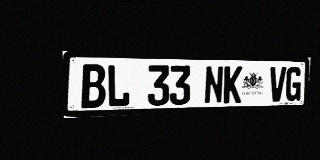3: (148, 65, 170, 106), (170, 65, 191, 105)
B: (81, 64, 106, 108)
G: (285, 67, 302, 101)
K: (223, 66, 243, 103)
L: (107, 64, 130, 107)
N: (204, 66, 224, 104)
V: (269, 67, 286, 102)
